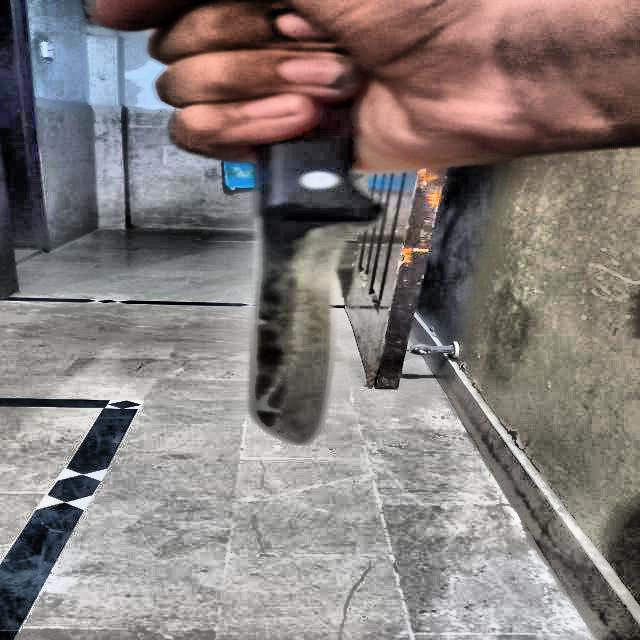knife: (251, 94, 384, 442)
